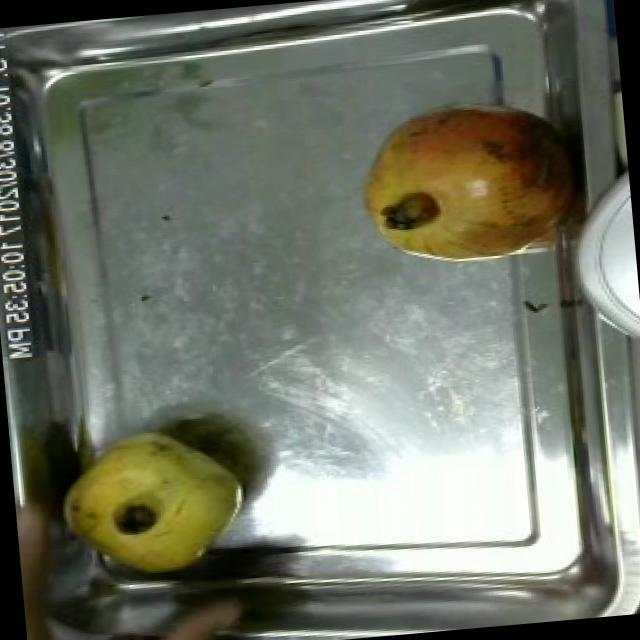fruit: (340, 79, 592, 281), (48, 417, 262, 586)
